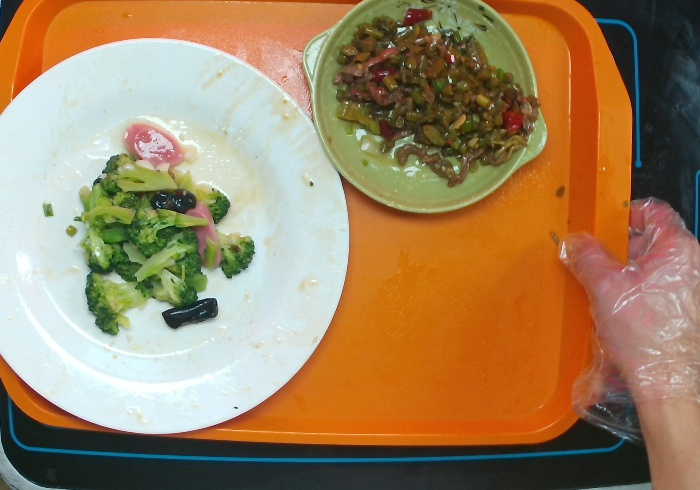NLDX-Da_Yuan_Pan: (1, 33, 355, 438)
NLDX-Lv_Hua_Shuang_Er_Die: (299, 1, 554, 223)
